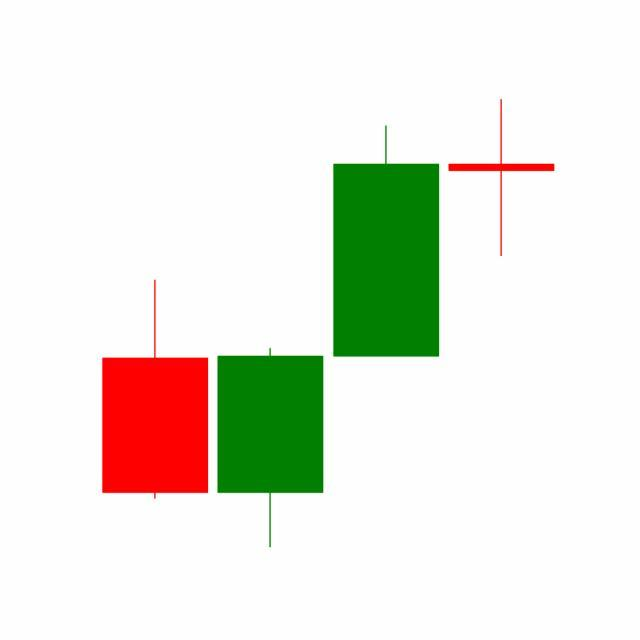Spinning Top: (444, 98, 560, 258)
